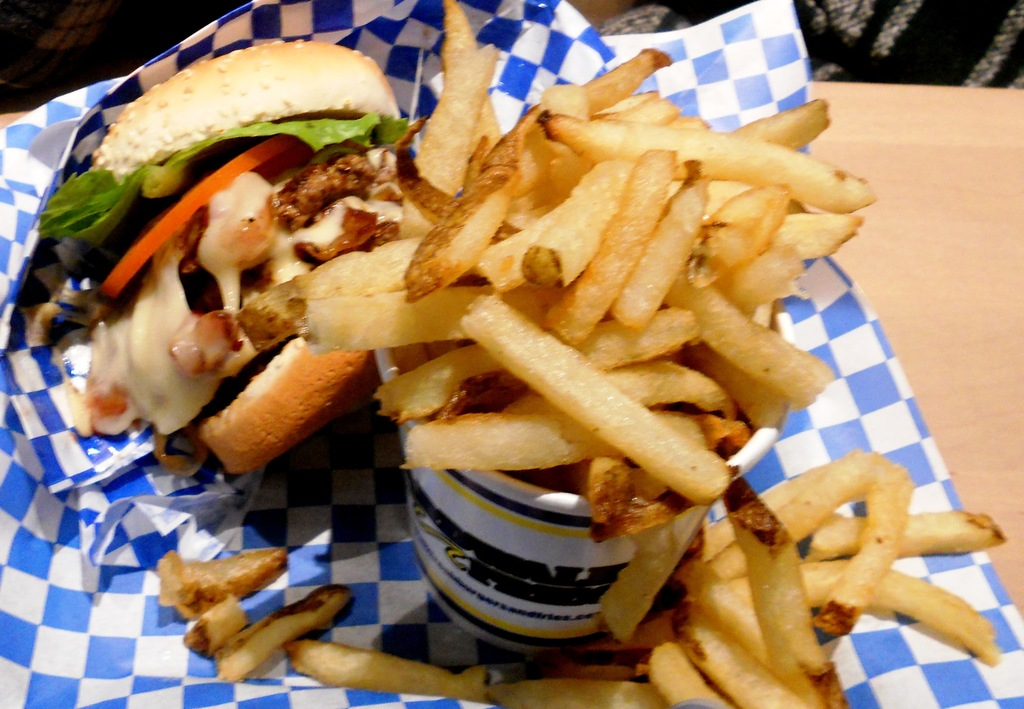French fries: (179, 0, 1012, 708)
